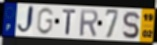7: (104, 8, 120, 40)
G: (36, 7, 55, 36)
J: (16, 5, 35, 36)
R: (79, 8, 100, 37)
S: (122, 10, 141, 40)
T: (62, 9, 78, 37)
